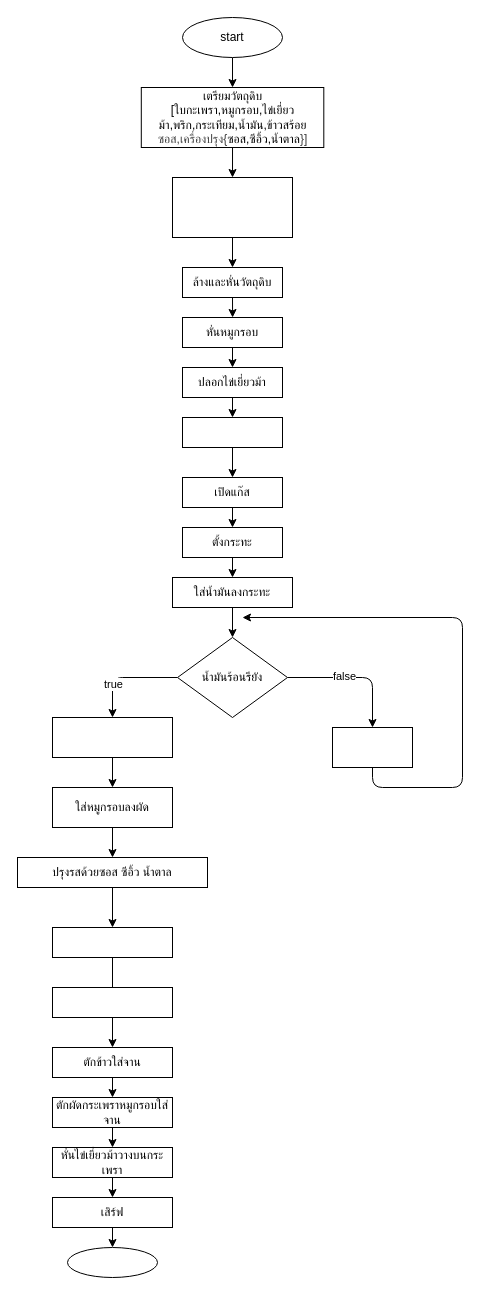
This 488x1295 diagram has some shape labels left out. The shapes that lost their labels are listed below. From the top down, each one's box as (x1, y1, x2, y2) in pixels, then its label:
(172, 176, 292, 238): เตรียมอุปกรณ์ครัว กระทะ,ตะหลิว,จาน
(182, 416, 282, 448): สับกระเทียมและพรืก
(52, 716, 172, 758): ใส่กระเทียมและพรืกลงผัดจนหอม
(332, 726, 412, 768): รอนํ้ามันร้อน
(52, 926, 172, 958): ใส่ใบกระเพราลงผัด ให้กรอบ
(52, 986, 172, 1018): ปิดแก็ส
(66, 1246, 158, 1278): stop
